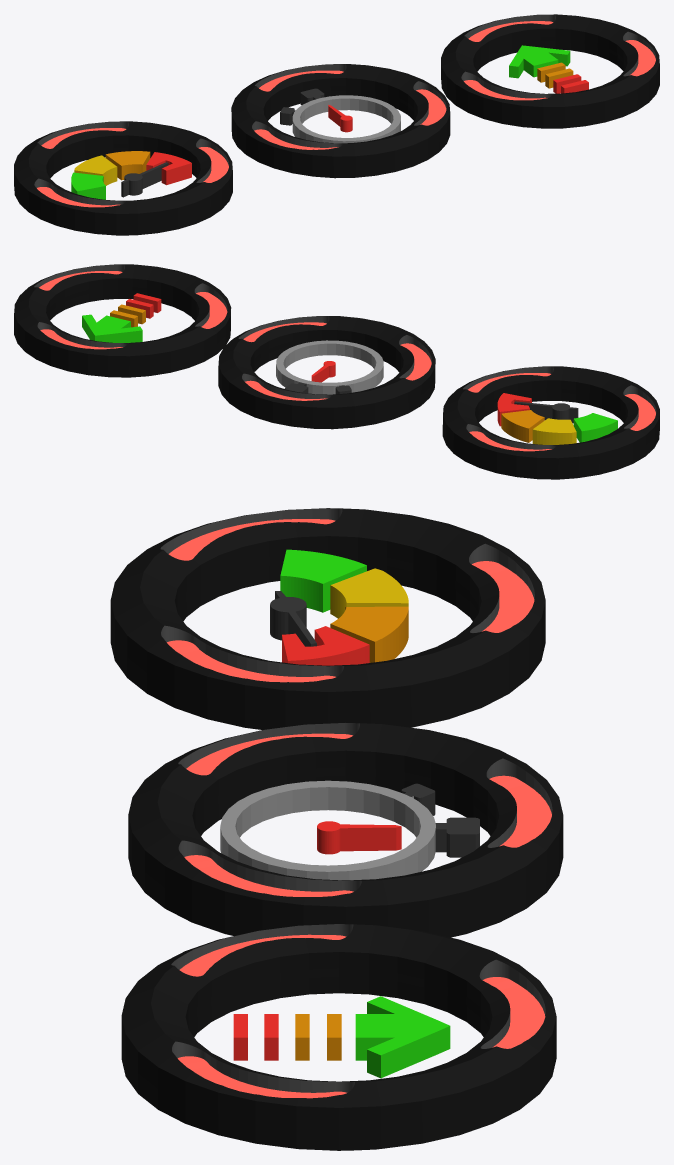
Rendered from Bonuses.fbx.
3 renders of one model, top to bottom at view 1: azimuth 30°, elevation 25°; view 2: azimuth 150°, elevation 25°; view 3: azimuth 270°, elevation 25°, orthographic. The views are drawn at different scales.
Visible parts, largest first — view 1: Circle.004, Circle.002, Plane; view 2: Circle.004, Circle.002, Plane; view 3: Circle.004, Circle.002, Plane.
Part boxes in pixels (left/top/right/bottom): Circle.004: left=14, top=121, right=232, bottom=235; Circle.002: left=231, top=64, right=450, bottom=178; Plane: left=441, top=14, right=659, bottom=128; Circle.004: left=442, top=366, right=659, bottom=479; Circle.002: left=218, top=316, right=435, bottom=429; Plane: left=14, top=264, right=231, bottom=377; Circle.004: left=110, top=508, right=545, bottom=729; Circle.002: left=128, top=723, right=563, bottom=937; Plane: left=121, top=924, right=556, bottom=1150.
Size of the model in its own units: 722 by 38.26 by 230.
